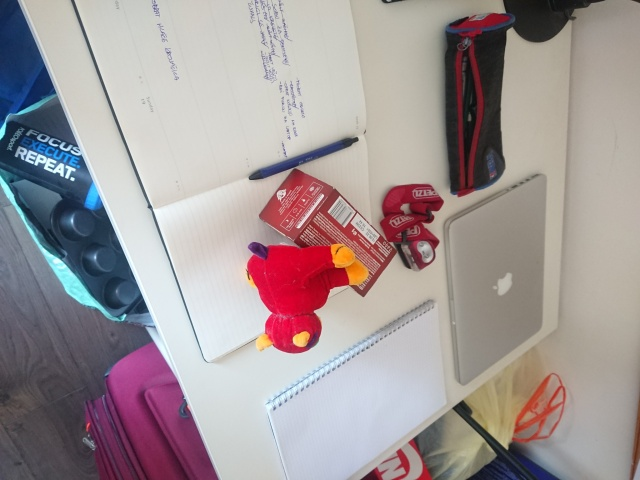Franck Apple Cinnamon Tea 60g: (256, 165, 398, 298)
